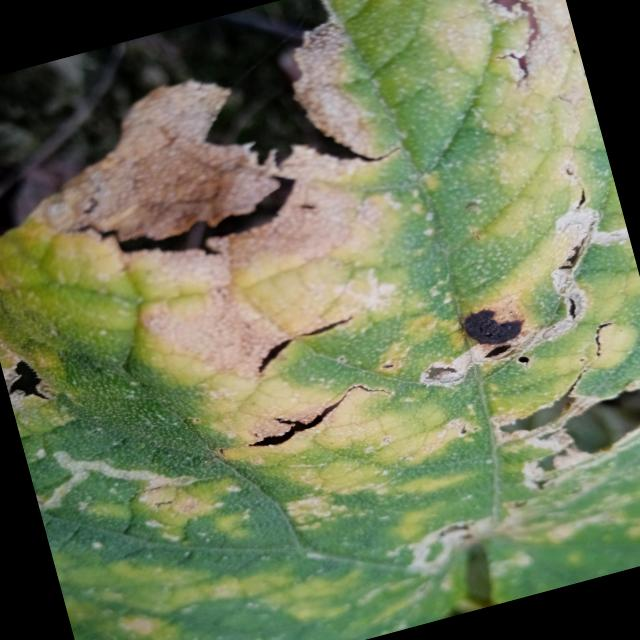cucumber_anthracnose: (0, 86, 640, 640), (33, 0, 584, 210)
